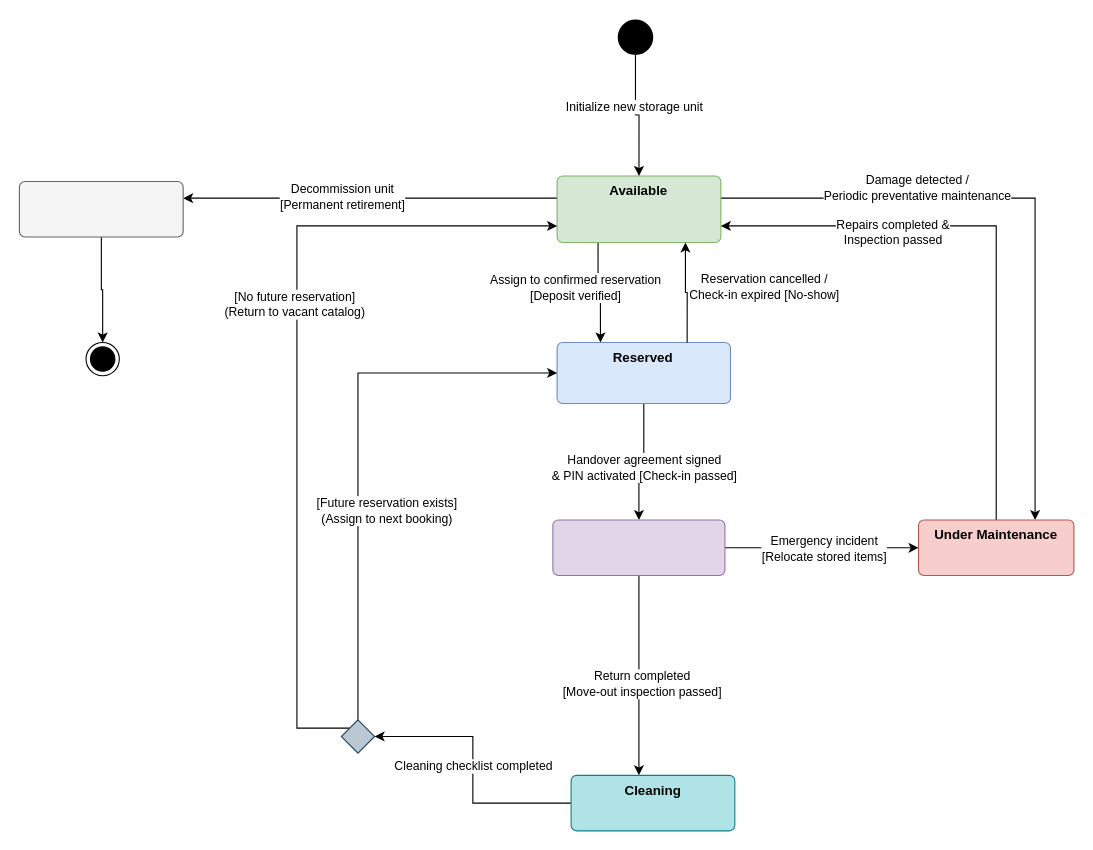
The diagram is 1093 pixels wide and 850 high, and some of its shapes have lost their labels. The box of each missing label's shape, as (x1, y1, x2, y2) in pixels:
Occupied: (552, 519, 725, 576)
Out of Service: (18, 180, 183, 237)
